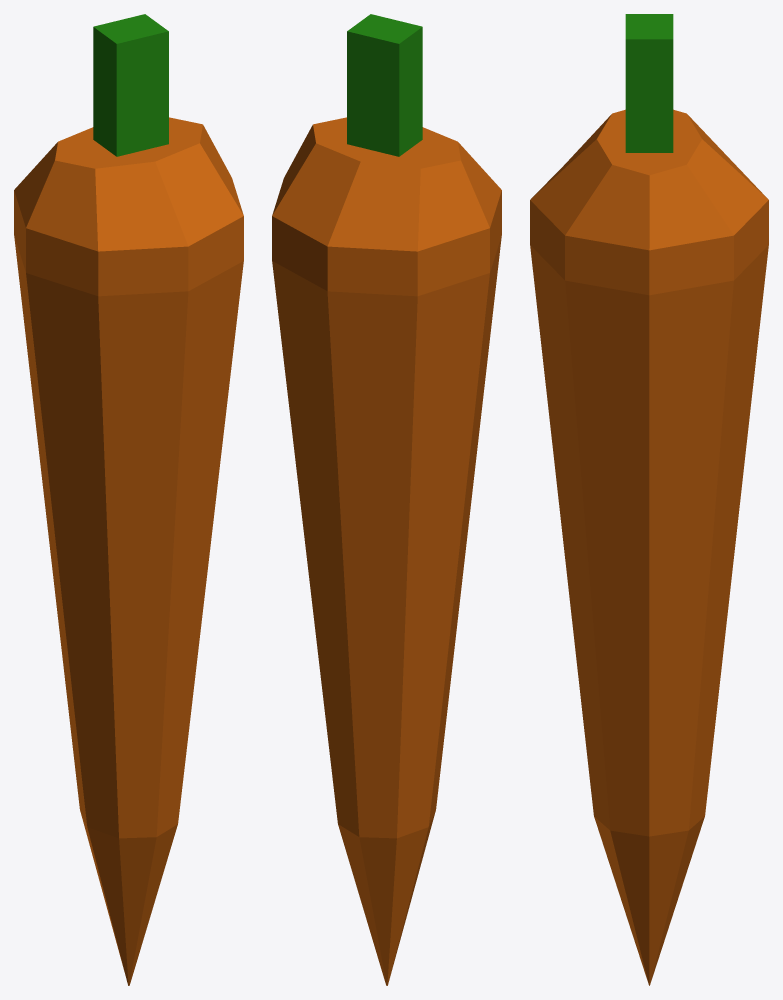
The model's file is Carrot.fbx.
The picture shows the model from 3 angles, left to right: view 1: azimuth 30°, elevation 25°; view 2: azimuth 150°, elevation 25°; view 3: azimuth 270°, elevation 25°; orthographic projection.
Parts seen in each view (by area): view 1: Carrot; view 2: Carrot; view 3: Carrot.
Part boxes in pixels (x1=…): Carrot: x1=14, y1=14, x2=243, y2=985; Carrot: x1=272, y1=14, x2=501, y2=985; Carrot: x1=530, y1=14, x2=768, y2=985.
Bounding box in the file's own units: 3.06 × 13.57 × 3.06.
